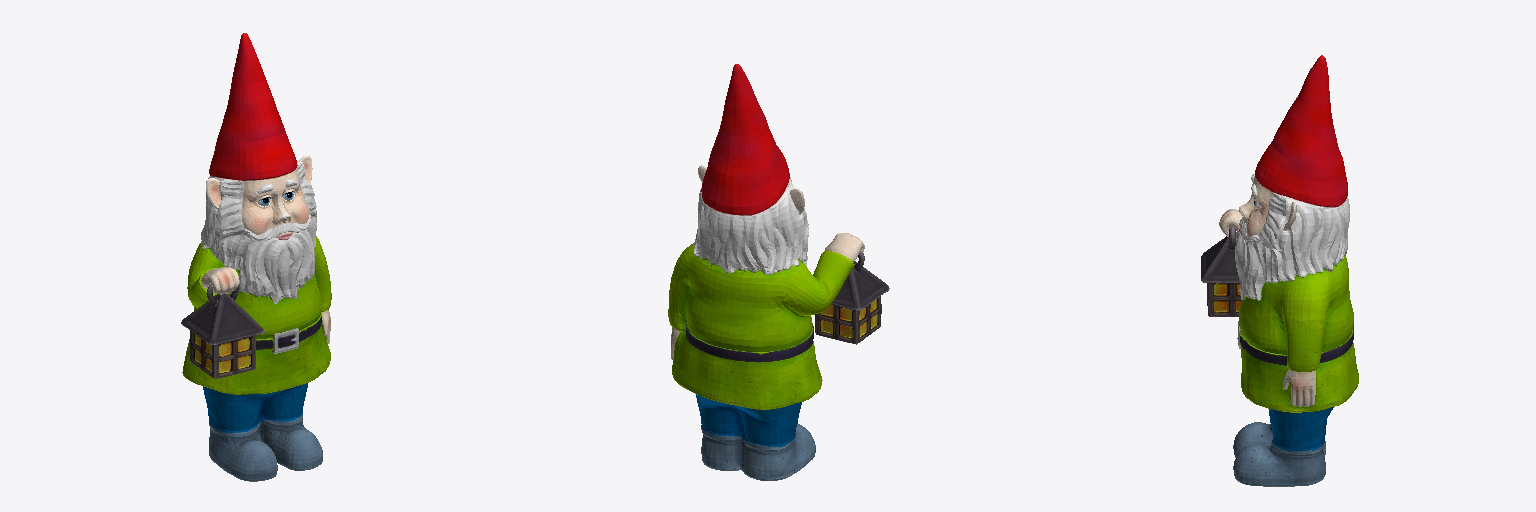
3 views of the same model, side by side, from view 1: azimuth 30°, elevation 25°; view 2: azimuth 150°, elevation 25°; view 3: azimuth 270°, elevation 25° (orthographic).
Visible parts, largest first — view 1: garden_gnome; view 2: garden_gnome; view 3: garden_gnome.
Boxes of the visible parts, <box> form: garden_gnome: <box>181,33,331,481</box>; garden_gnome: <box>668,64,889,480</box>; garden_gnome: <box>1201,55,1358,486</box>.
Bounding box in the file's own units: 0.2579 × 0.5991 × 0.2097.
1 materials, 1 textured.